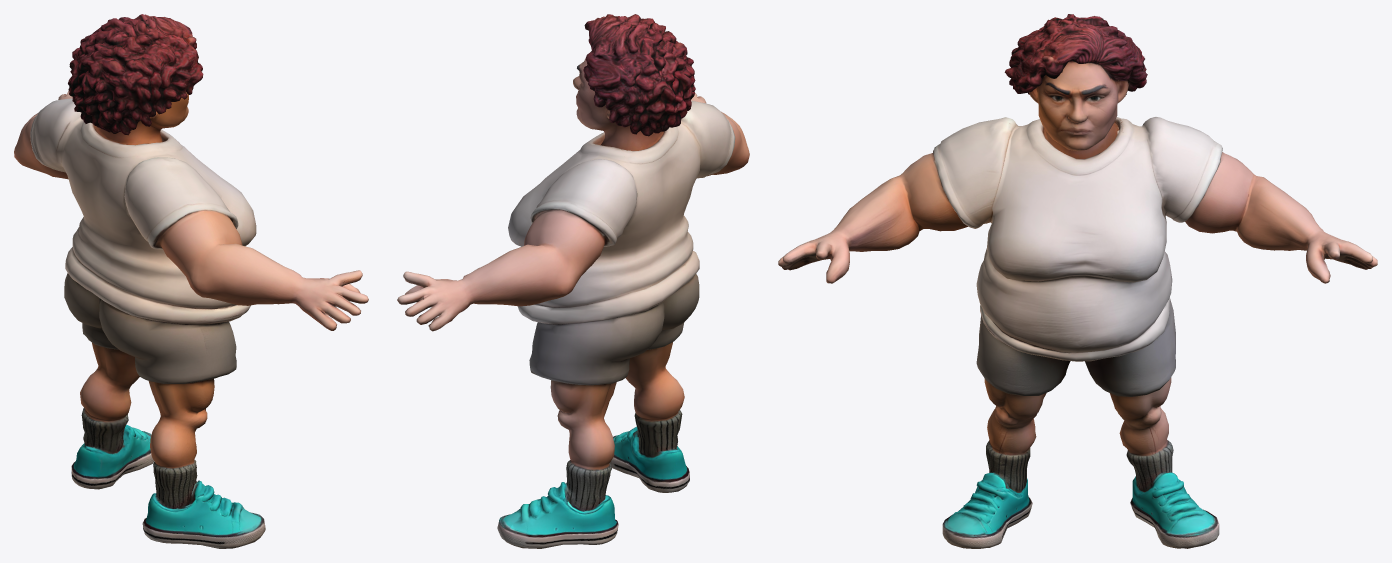
The picture shows the model from 3 angles, left to right: view 1: azimuth 30°, elevation 25°; view 2: azimuth 150°, elevation 25°; view 3: azimuth 270°, elevation 25°; orthographic projection.
Parts seen in each view (by area): view 1: tripo_node_a29f3f92; view 2: tripo_node_a29f3f92; view 3: tripo_node_a29f3f92.
Boxes of the visible parts, x1,y1,x2,y2 form: tripo_node_a29f3f92: (14,14,368,548); tripo_node_a29f3f92: (397,14,749,548); tripo_node_a29f3f92: (778,14,1377,548).
Size of the model in its own units: 0.3229 by 0.9178 by 1.
Materials: 1 (1 with a texture image).
